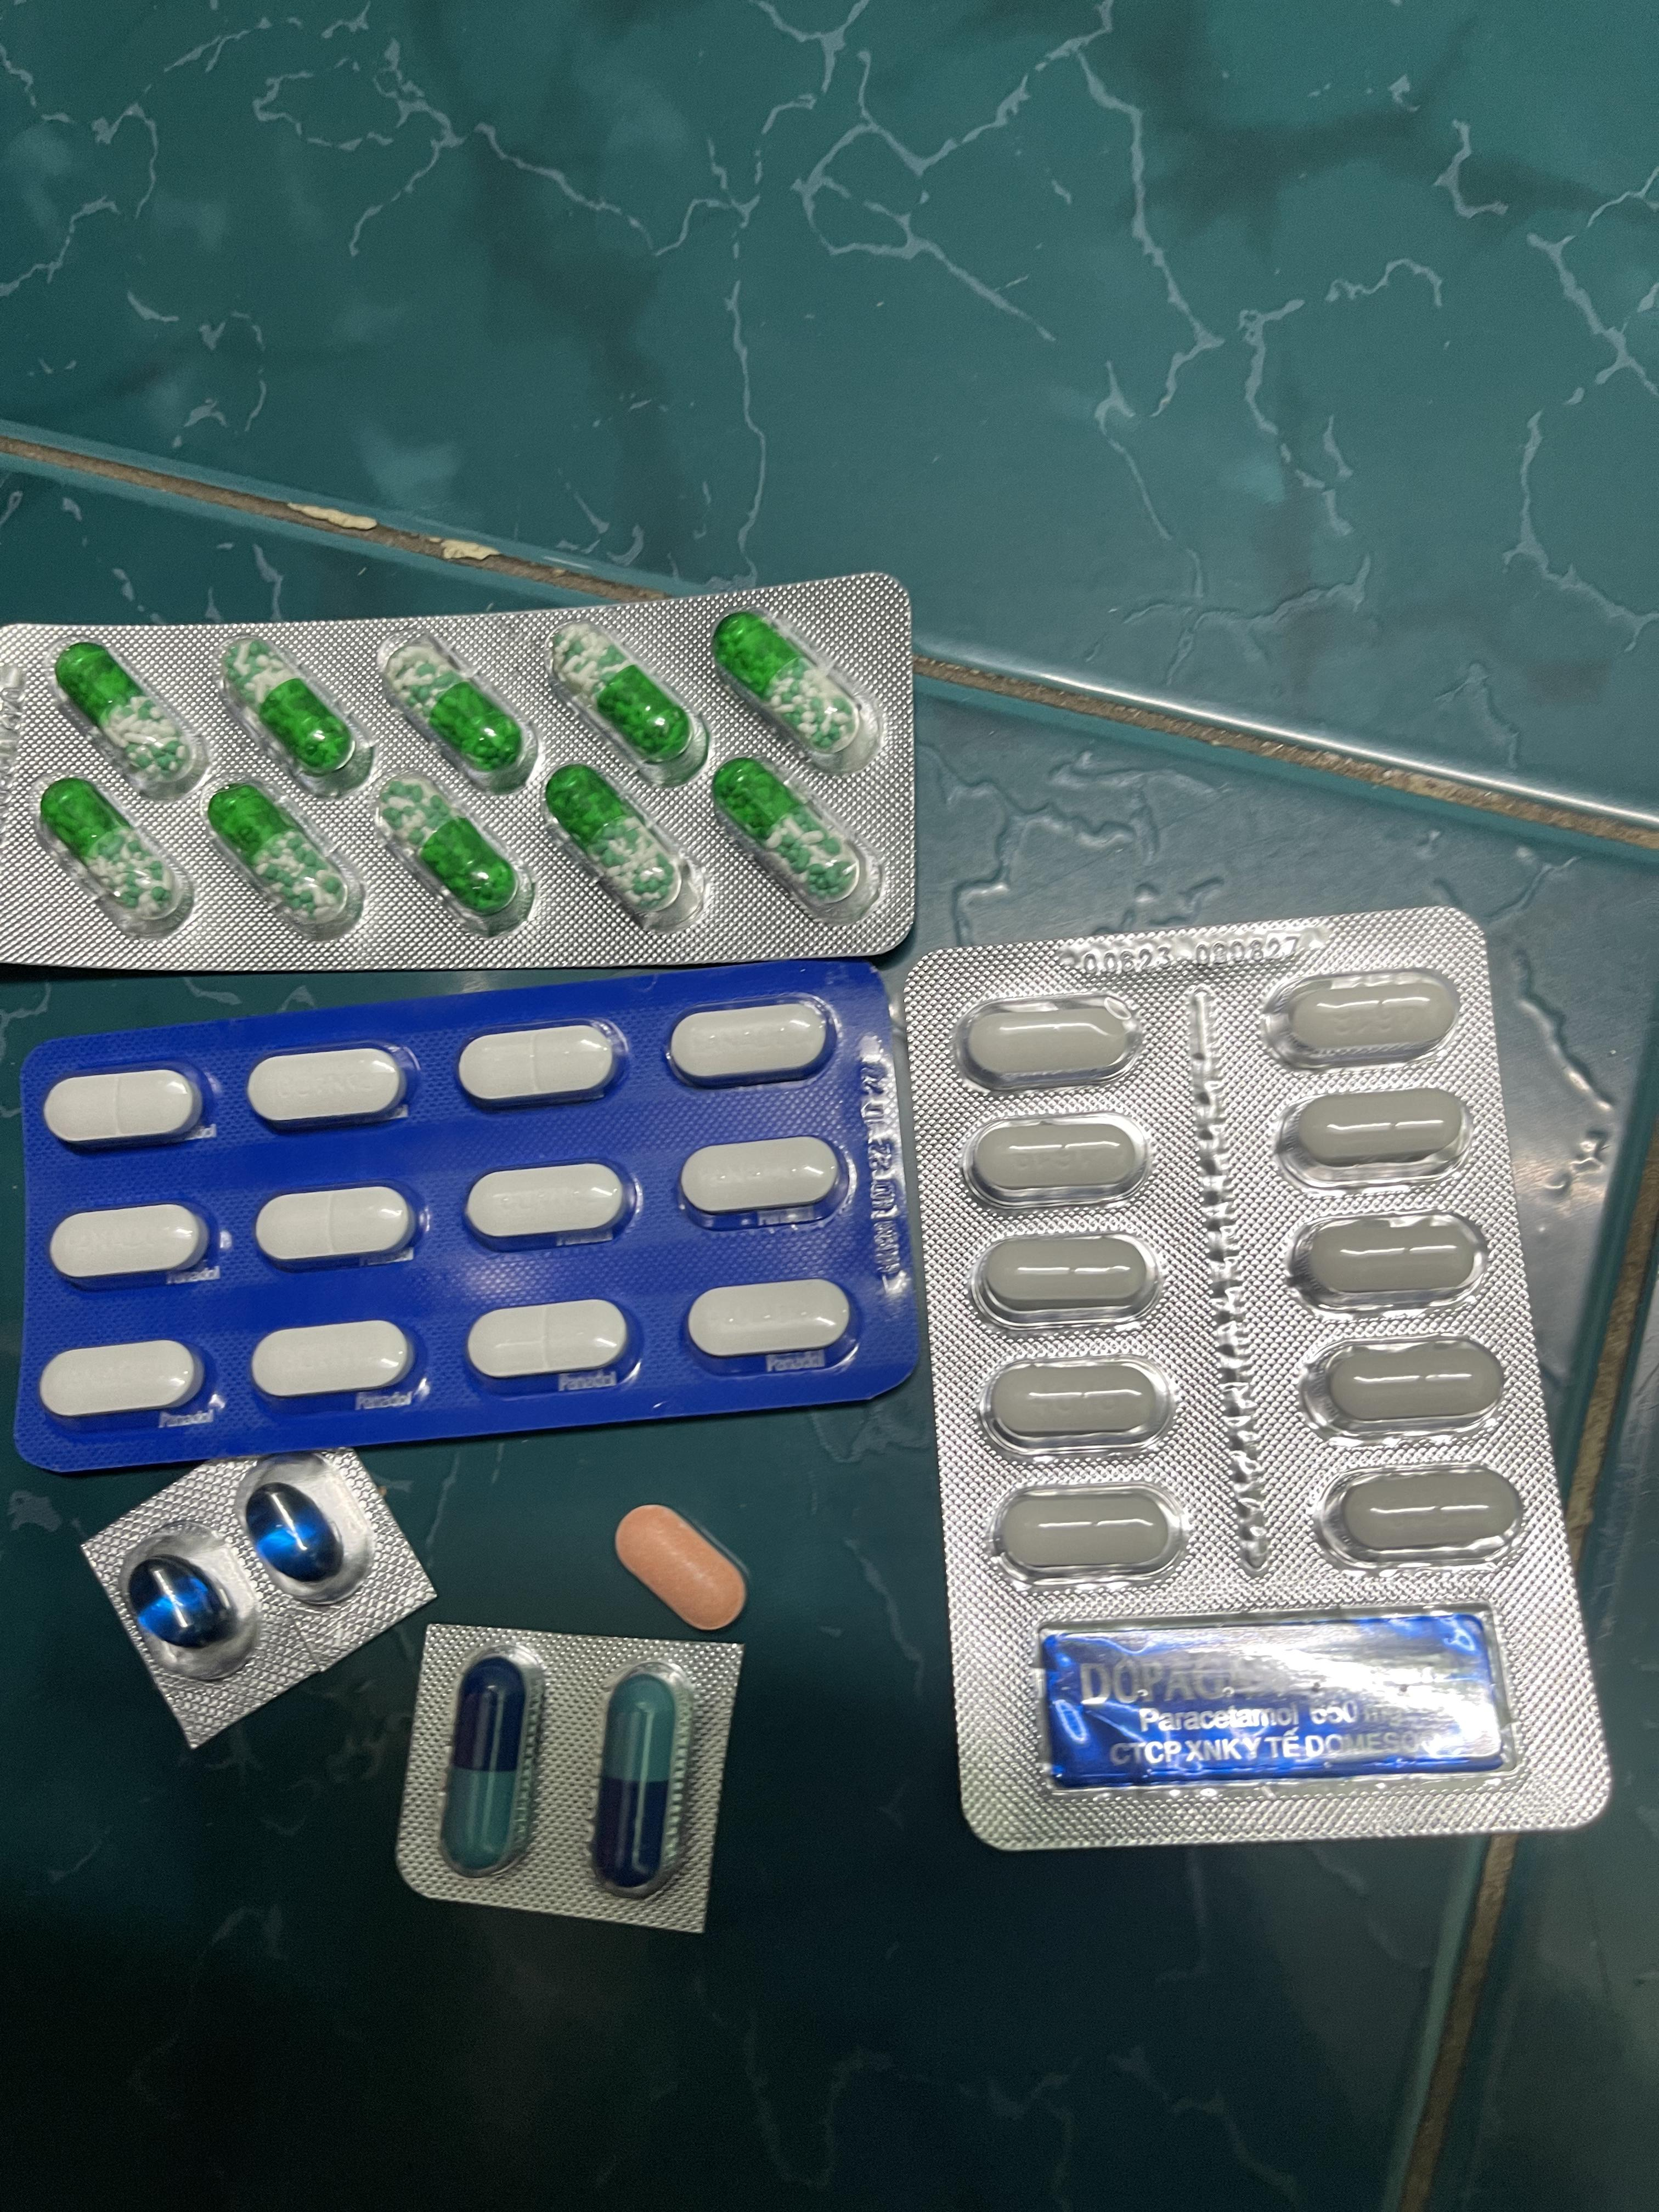Lincomyxin_500mg: (244, 1482, 349, 1590), (129, 1554, 235, 1649)
Loratadine_10mg: (615, 1507, 749, 1635)
Paracetamol_350mg: (464, 1162, 636, 1249), (678, 1136, 845, 1224), (460, 1021, 626, 1109), (251, 1318, 418, 1406), (667, 1000, 833, 1087), (246, 1045, 411, 1132), (469, 1298, 634, 1383), (687, 1278, 852, 1364), (254, 1184, 420, 1270), (49, 1200, 211, 1287), (42, 1066, 206, 1150), (38, 1338, 202, 1421)
Paracetamol_500mg: (1317, 1463, 1528, 1569), (1302, 1334, 1513, 1440), (1284, 1207, 1493, 1312), (1277, 1089, 1478, 1190), (1263, 968, 1462, 1068), (988, 1479, 1183, 1580), (981, 1352, 1169, 1454), (962, 1111, 1145, 1211), (955, 993, 1134, 1092), (972, 1228, 1154, 1325)
Paracetamol_650mg: (371, 772, 532, 932), (711, 610, 861, 758), (713, 759, 863, 906), (40, 777, 185, 925), (540, 765, 683, 914), (54, 639, 202, 780), (207, 784, 350, 923), (549, 625, 694, 763), (385, 641, 526, 779), (220, 636, 357, 773)
pill: (596, 1674, 681, 1895), (448, 1656, 532, 1872)
